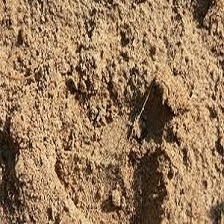sandy_soil: (12, 21, 213, 207)
